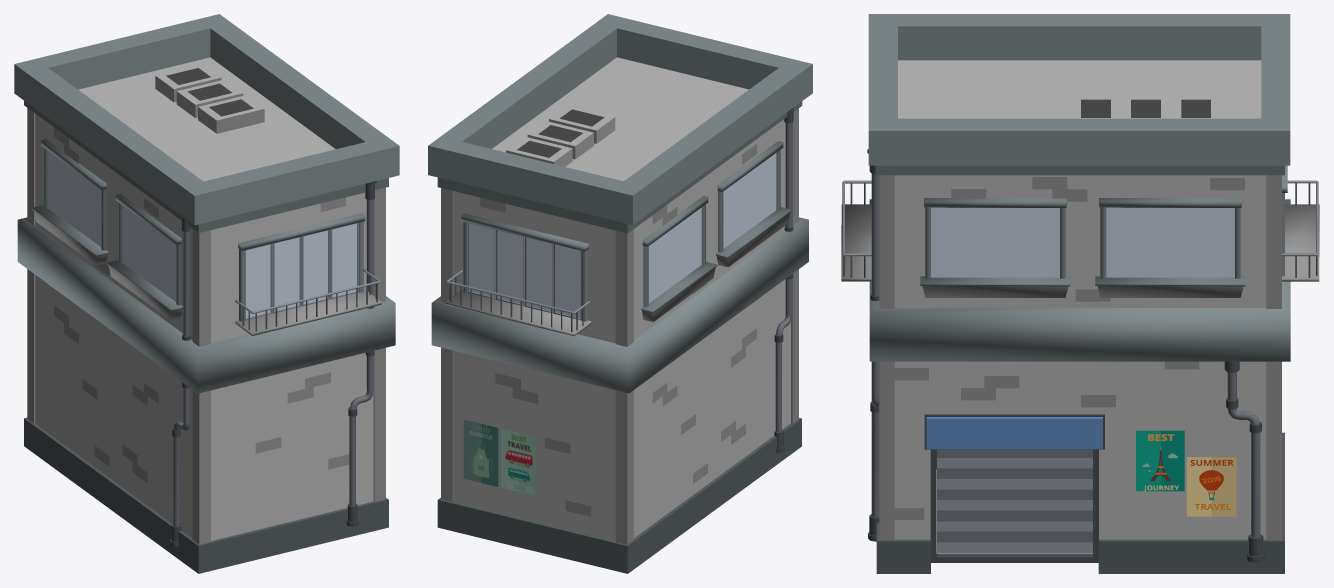
Rendered from building07.FBX.
3 views of the same model, side by side, from view 1: azimuth 30°, elevation 25°; view 2: azimuth 150°, elevation 25°; view 3: azimuth 270°, elevation 25° (orthographic). The views are drawn at different scales.
Parts seen in each view (by area): view 1: building07; view 2: building07; view 3: building07.
Boxes of the visible parts, x1,y1,x2,y2 form: building07: (14,14,399,573); building07: (428,14,812,573); building07: (841,14,1319,573).
Size of the model in its own units: 233 by 407 by 395.
